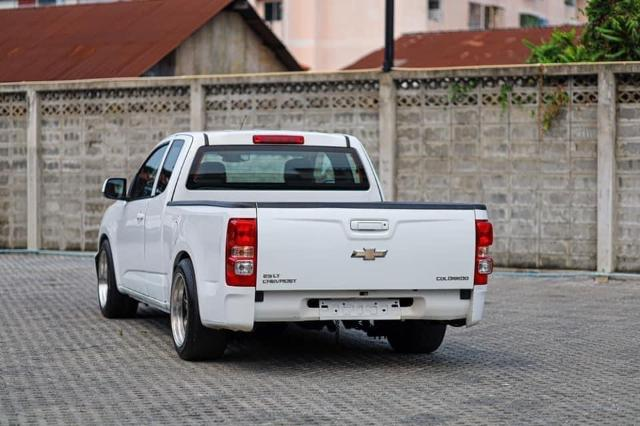pickup-truck: (80, 121, 505, 386)
